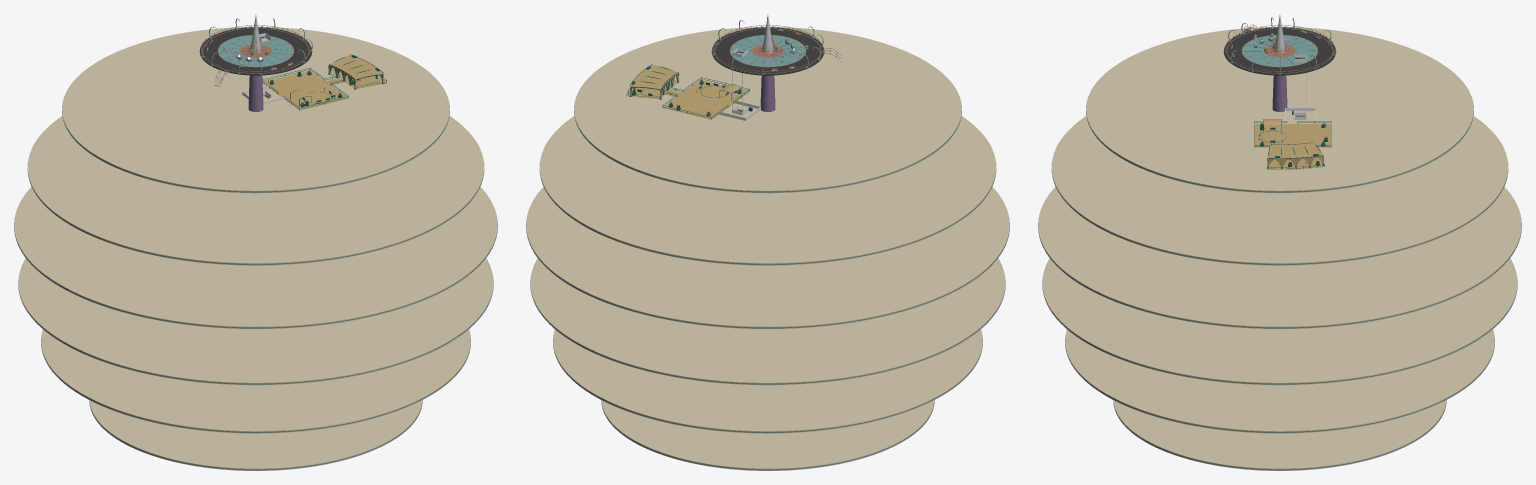
The model's file is full_assembly.glb.
The picture shows the model from 3 angles, left to right: view 1: azimuth 30°, elevation 25°; view 2: azimuth 150°, elevation 25°; view 3: azimuth 270°, elevation 25°; orthographic projection.
Parts seen in each view (by area): view 1: Deck 01 top 57m, Deck 02 top 32m, Deck 03 top 7m, Deck 04 top -18m, Deck 05 top -43m, Deck 06 top -68m, bridge_floor_top82, COMMONS_floor_paving, COMMONS_arcade_terrace, Deck 04 edge, Deck 03 edge, Deck 02 edge (+4 smaller); view 2: Deck 01 top 57m, Deck 02 top 32m, Deck 03 top 7m, Deck 04 top -18m, Deck 05 top -43m, Deck 06 top -68m, bridge_floor_top82, COMMONS_floor_paving, Deck 04 edge, COMMONS_arcade_terrace, Deck 03 edge, Deck 02 edge (+4 smaller); view 3: Deck 01 top 57m, Deck 02 top 32m, Deck 03 top 7m, Deck 04 top -18m, Deck 05 top -43m, Deck 06 top -68m, bridge_floor_top82, COMMONS_floor_paving, COMMONS_arcade_terrace, Deck 03 edge, Deck 04 edge, deck_floor_fill (+4 smaller).
Part boxes in pixels (x1,y1,x2,y2): Deck 01 top 57m: (62, 27, 449, 193); Deck 02 top 32m: (27, 96, 484, 265); Deck 03 top 7m: (14, 187, 497, 328); Deck 04 top -18m: (18, 258, 493, 385); Deck 05 top -43m: (41, 329, 470, 433); Deck 06 top -68m: (89, 400, 422, 470); bridge_floor_top82: (203, 28, 308, 73); COMMONS_floor_paving: (262, 71, 347, 110); COMMONS_arcade_terrace: (329, 54, 383, 79); Deck 04 edge: (18, 279, 493, 384); Deck 03 edge: (14, 217, 497, 328); Deck 02 edge: (27, 163, 484, 264); Deck 01 top 57m: (574, 27, 961, 193); Deck 02 top 32m: (539, 116, 996, 265); Deck 03 top 7m: (526, 187, 1009, 328); Deck 04 top -18m: (530, 258, 1005, 385); Deck 05 top -43m: (553, 329, 982, 433); Deck 06 top -68m: (601, 400, 934, 470); bridge_floor_top82: (715, 28, 823, 73); COMMONS_floor_paving: (663, 80, 749, 119); Deck 04 edge: (530, 279, 1005, 384); COMMONS_arcade_terrace: (629, 64, 678, 89); Deck 03 edge: (526, 217, 1009, 328); Deck 02 edge: (539, 163, 996, 264); Deck 01 top 57m: (1086, 27, 1473, 193); Deck 02 top 32m: (1051, 116, 1508, 265); Deck 03 top 7m: (1038, 187, 1521, 328); Deck 04 top -18m: (1042, 258, 1517, 385); Deck 05 top -43m: (1065, 329, 1494, 433); Deck 06 top -68m: (1113, 400, 1446, 470); bridge_floor_top82: (1227, 28, 1332, 73); COMMONS_floor_paving: (1254, 124, 1330, 147); COMMONS_arcade_terrace: (1267, 142, 1323, 158); Deck 03 edge: (1038, 223, 1521, 328); Deck 04 edge: (1042, 279, 1517, 384); deck_floor_fill: (1223, 27, 1336, 74).
Size of the model in its own units: 189 by 178 by 189.
15 materials, 11 textured.
